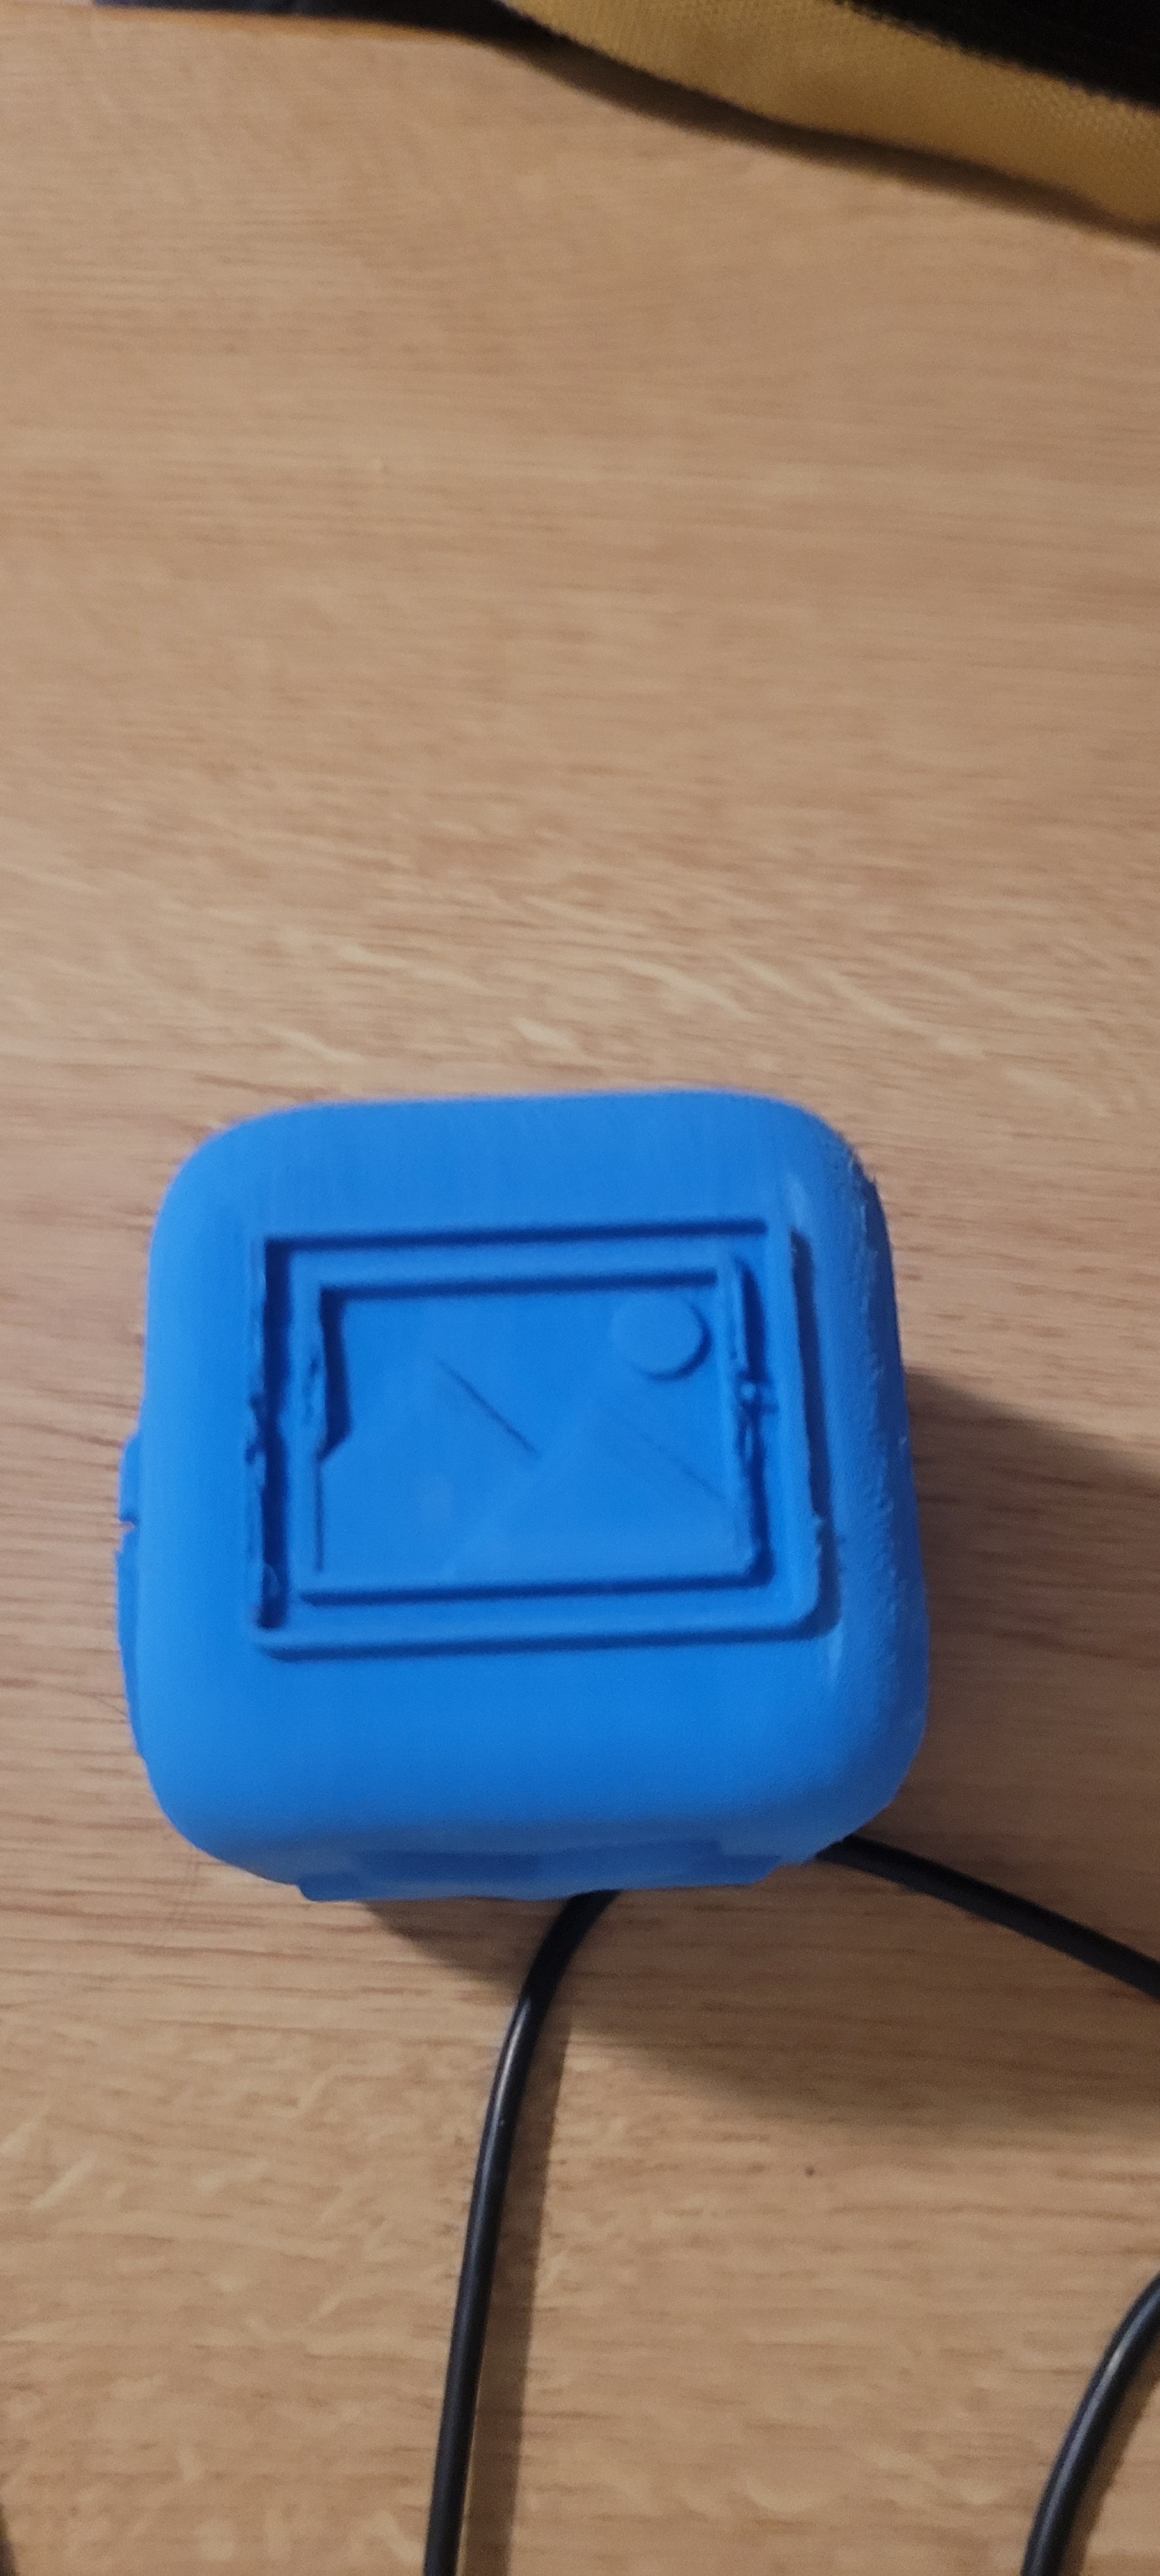Story: (215, 1170, 887, 1735)
